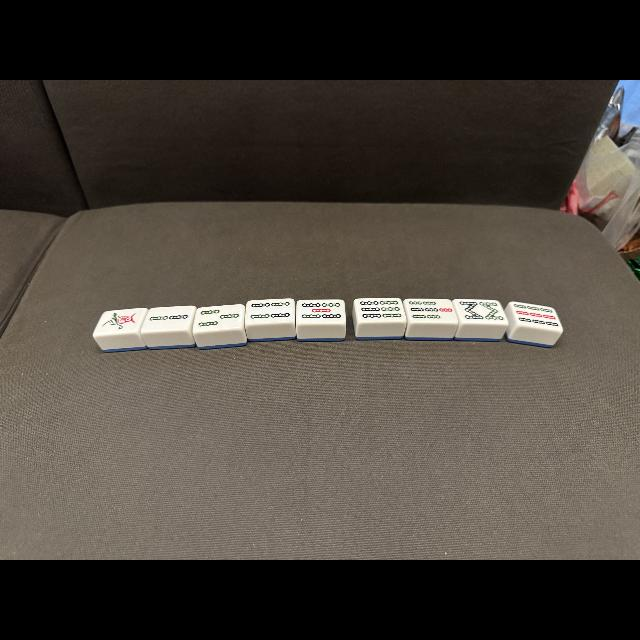b1: (96, 308, 142, 334)
b2: (143, 306, 191, 330)
b3: (194, 306, 243, 330)
b4: (246, 299, 294, 323)
b5: (298, 300, 344, 322)
b6: (356, 298, 404, 322)
b7: (408, 298, 457, 322)
b8: (456, 300, 506, 324)
b9: (512, 302, 560, 330)
